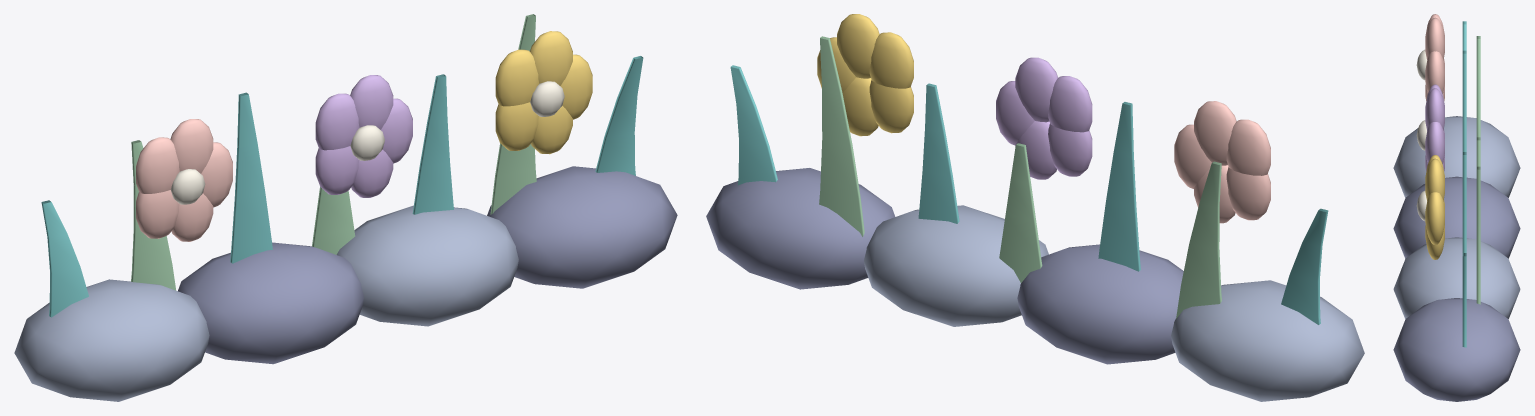
File: fairy_bank_0.glb
3 views of the same model, side by side, from view 1: azimuth 30°, elevation 25°; view 2: azimuth 150°, elevation 25°; view 3: azimuth 270°, elevation 25° (orthographic). The views are drawn at different scales.
Parts seen in each view (by area): view 1: BankStone_0, BankStone_3, BankStone_1, BankStone_2, BankLeaf_2, BankLeaf_4, BankLeaf_6, BankLeaf_0, BankLeaf_1, BankLeaf_5, BankLeaf_3, BankFlower_2_2 (+17 smaller); view 2: BankStone_0, BankStone_1, BankStone_3, BankStone_2, BankLeaf_5, BankLeaf_2, BankLeaf_1, BankLeaf_3, BankLeaf_4, BankLeaf_6, BankLeaf_0, BankFlower_1_2 (+14 smaller); view 3: BankStone_3, BankStone_2, BankStone_0, BankStone_1, BankFlower_2_0, BankLeaf_5, BankFlower_0_0, BankFlower_1_0, BankFlower_1_1, BankFlower_2_1, BankFlower_0_1, BankLeaf_1 (+9 smaller).
Part boxes in pixels (box(x1,y1,x2,y2)): BankStone_0: box(14, 279, 209, 401); BankStone_3: box(487, 166, 677, 288); BankStone_1: box(178, 242, 363, 364); BankStone_2: box(336, 205, 518, 326); BankLeaf_2: box(230, 92, 272, 263); BankLeaf_4: box(412, 74, 453, 214); BankLeaf_6: box(595, 56, 643, 175); BankLeaf_0: box(41, 200, 88, 317); BankLeaf_1: box(131, 140, 176, 290); BankLeaf_5: box(490, 14, 536, 214); BankLeaf_3: box(312, 187, 355, 254); BankFlower_2_2: box(495, 49, 539, 106); BankStone_0: box(1171, 280, 1364, 401); BankStone_1: box(1017, 244, 1183, 364); BankStone_3: box(706, 168, 895, 289); BankStone_2: box(864, 205, 1048, 326); BankLeaf_5: box(819, 36, 864, 236); BankLeaf_2: box(1098, 102, 1140, 271); BankLeaf_1: box(1176, 161, 1221, 318); BankLeaf_3: box(999, 143, 1042, 282); BankLeaf_4: box(918, 83, 959, 223); BankLeaf_6: box(730, 65, 777, 185); BankLeaf_0: box(1281, 208, 1328, 324); BankFlower_1_2: box(1048, 76, 1092, 132); BankStone_3: box(1393, 298, 1520, 401); BankStone_2: box(1393, 237, 1520, 318); BankStone_0: box(1393, 116, 1520, 197); BankStone_1: box(1393, 176, 1520, 258); BankFlower_2_0: box(1425, 192, 1444, 244); BankLeaf_5: box(1476, 166, 1480, 304); BankFlower_0_0: box(1425, 51, 1444, 93); BankFlower_1_0: box(1425, 122, 1444, 164); BankFlower_1_1: box(1425, 88, 1444, 130); BankFlower_2_1: box(1425, 158, 1444, 201); BankFlower_0_1: box(1425, 17, 1444, 60); BankLeaf_1: box(1476, 36, 1480, 137).
Size of the model in its own units: 7.64 by 3.05 by 1.64.
